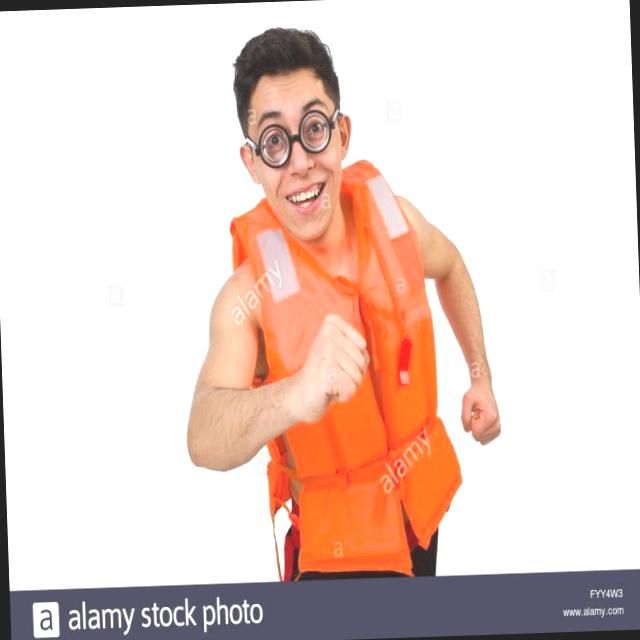no-gloves: (284, 314, 373, 410), (455, 380, 504, 446)
no-helmet: (228, 21, 360, 240)
vest: (223, 159, 472, 579)
